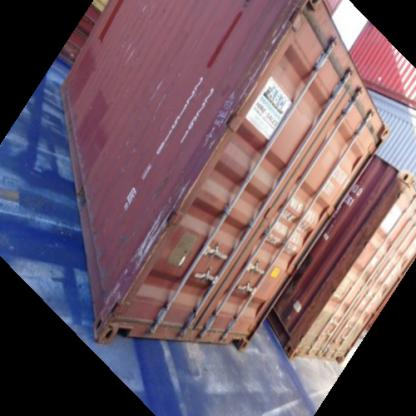Damage: (130, 206, 191, 254), (146, 76, 172, 115), (117, 38, 145, 66), (112, 132, 148, 150)
